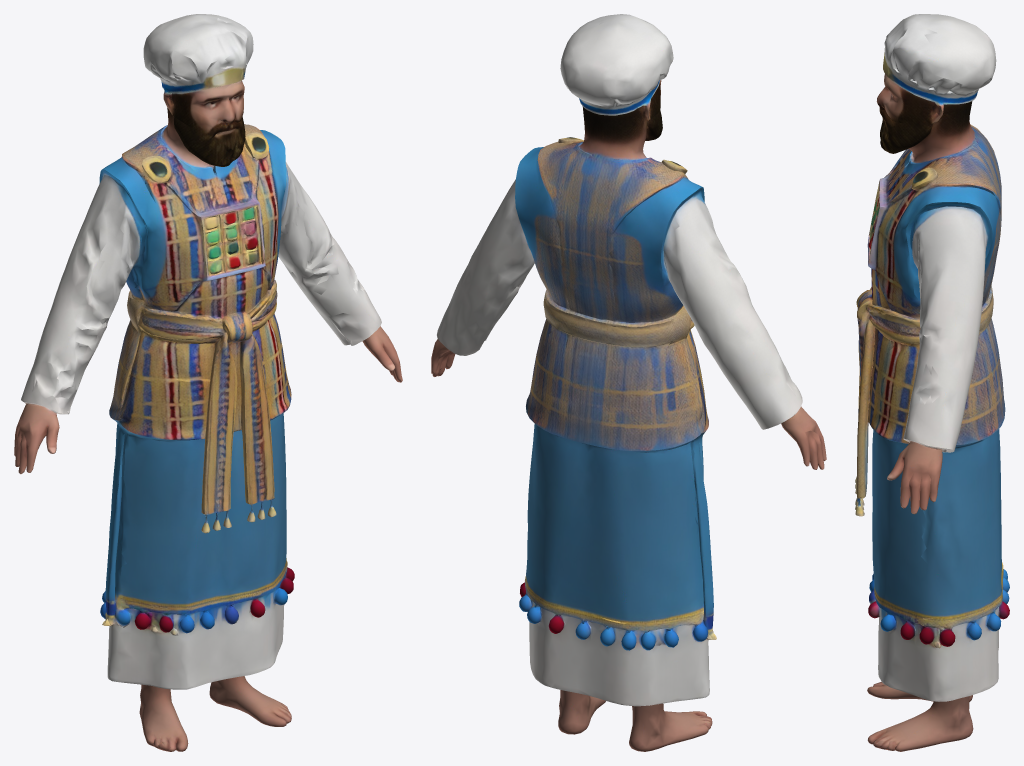
File: cohen_gadol_zahav_1.glb
3 views of the same model, side by side, from view 1: azimuth 30°, elevation 25°; view 2: azimuth 150°, elevation 25°; view 3: azimuth 270°, elevation 25° (orthographic).
Parts seen in each view (by area): view 1: Mesh; view 2: Mesh; view 3: Mesh.
Part boxes in pixels (<box>): Mesh: <box>14,14,402,751</box>; Mesh: <box>431,14,826,751</box>; Mesh: <box>855,14,1009,751</box>.
Size of the model in its own units: 1.08 by 1.89 by 0.3791.
1 material, 1 textured.
